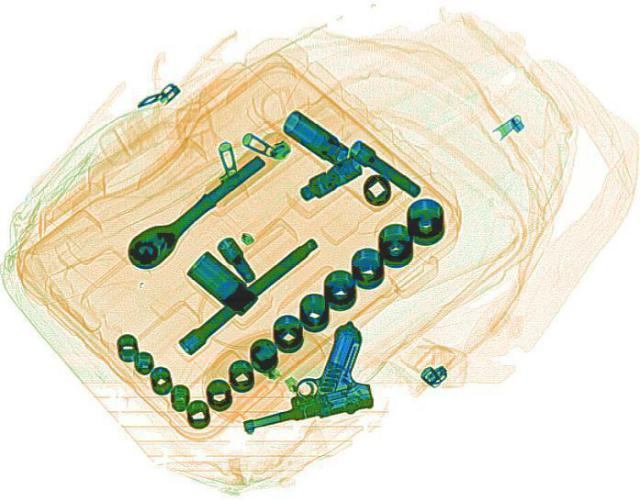Gun: (210, 319, 388, 432)
